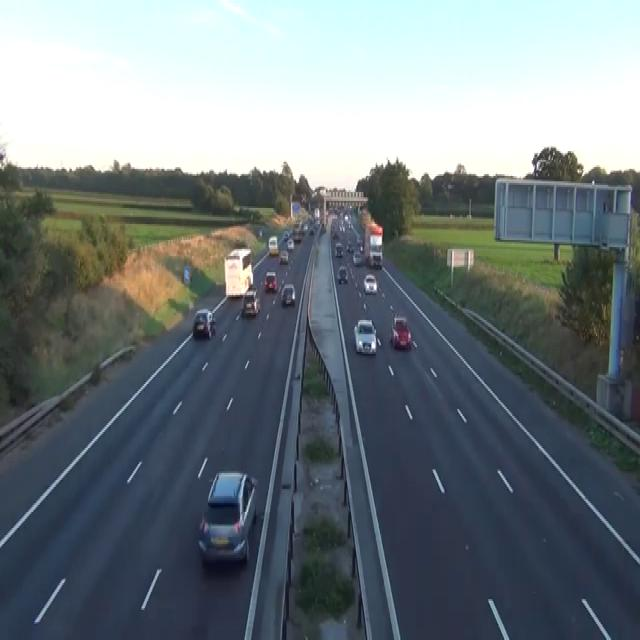Car: (197, 470, 258, 566), (353, 318, 376, 354), (192, 308, 216, 340), (390, 315, 411, 350), (242, 288, 260, 316), (281, 282, 295, 306), (363, 272, 377, 293), (264, 270, 277, 292), (337, 265, 348, 283), (352, 251, 362, 265), (279, 249, 288, 263), (292, 229, 301, 242), (335, 242, 343, 256), (287, 238, 294, 249), (346, 242, 353, 252), (302, 222, 308, 233), (283, 231, 289, 240), (356, 234, 362, 243), (280, 277, 284, 290), (322, 222, 326, 233), (309, 226, 314, 234), (258, 228, 262, 236), (359, 243, 363, 250)
Truck: (224, 247, 253, 297), (364, 220, 383, 268), (268, 235, 278, 254)
